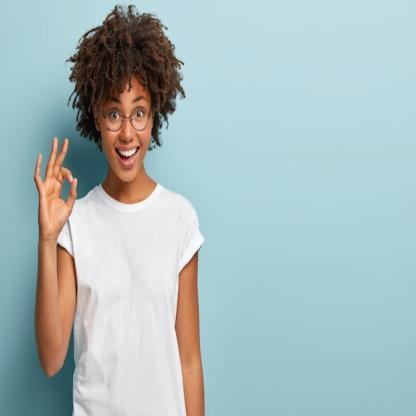ok: (34, 130, 80, 246)
